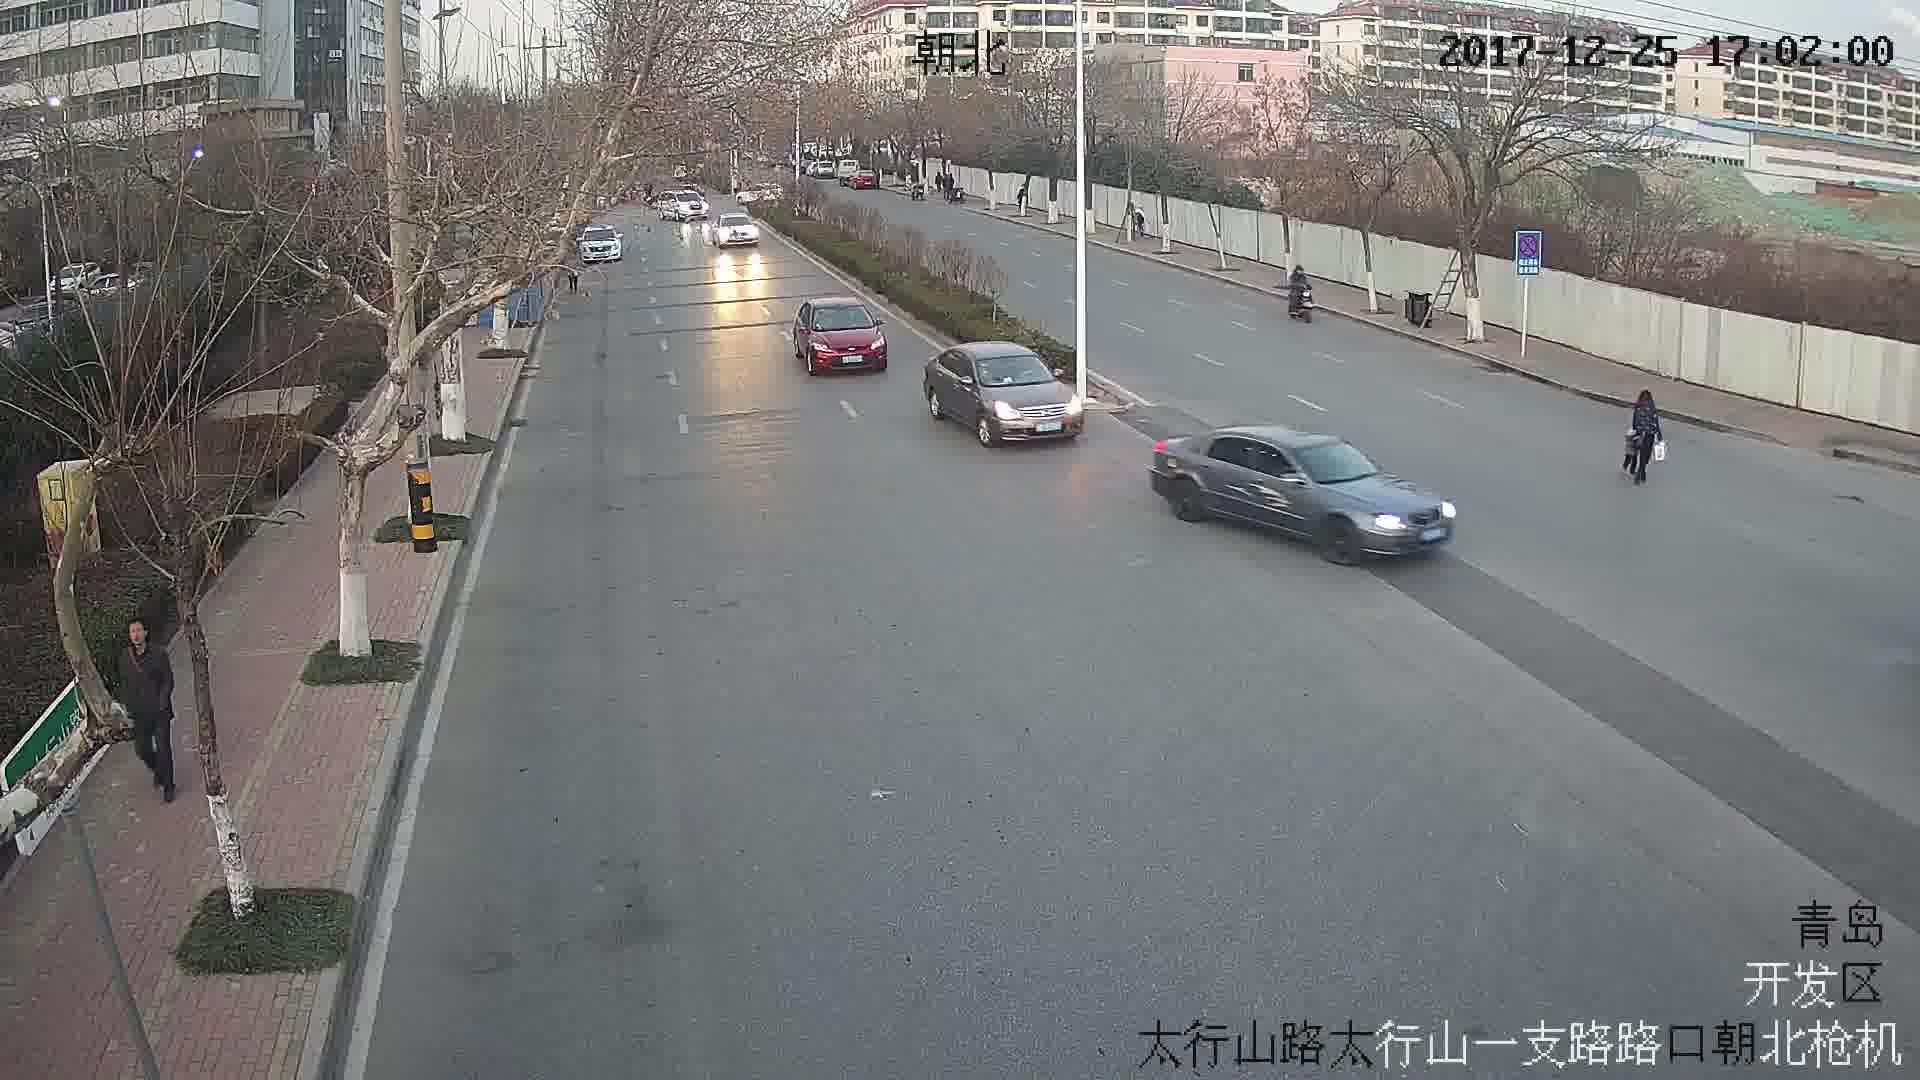car: (1150, 424, 1463, 567), (924, 342, 1082, 445), (789, 299, 891, 370), (712, 214, 760, 250), (582, 225, 623, 264)
person: (118, 621, 188, 799), (1627, 387, 1671, 487), (1285, 267, 1313, 321)
